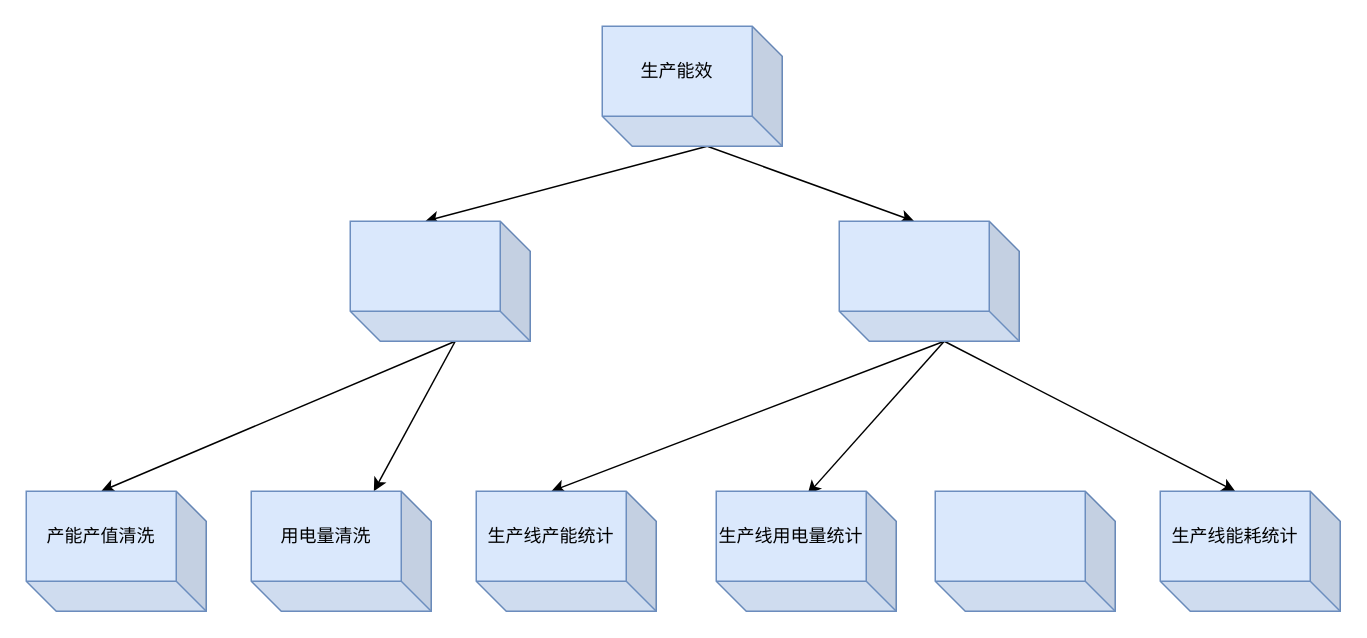
The diagram is 1367 pixels wide and 638 high, and some of its shapes have lost their labels. Each missing label, with the centre of its shape:
生产线产值统计: [1024,550]
生产线数据清洗配置: [439,280]
生产线统计: [928,280]
